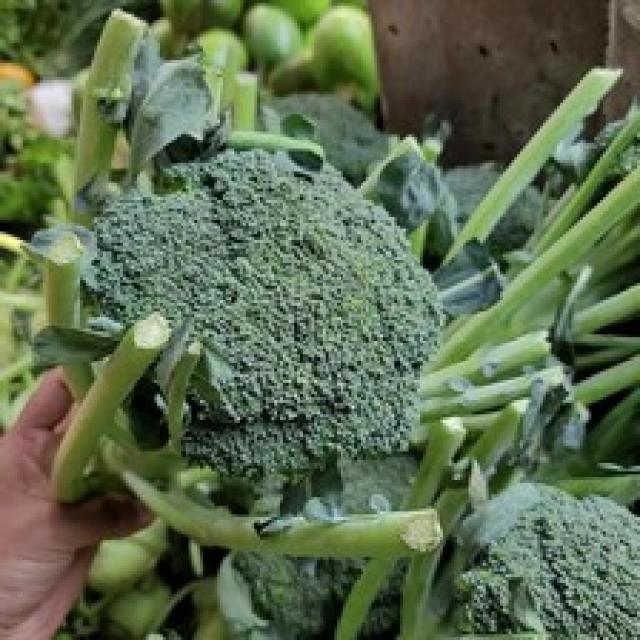Broccoli: (89, 150, 442, 472)
